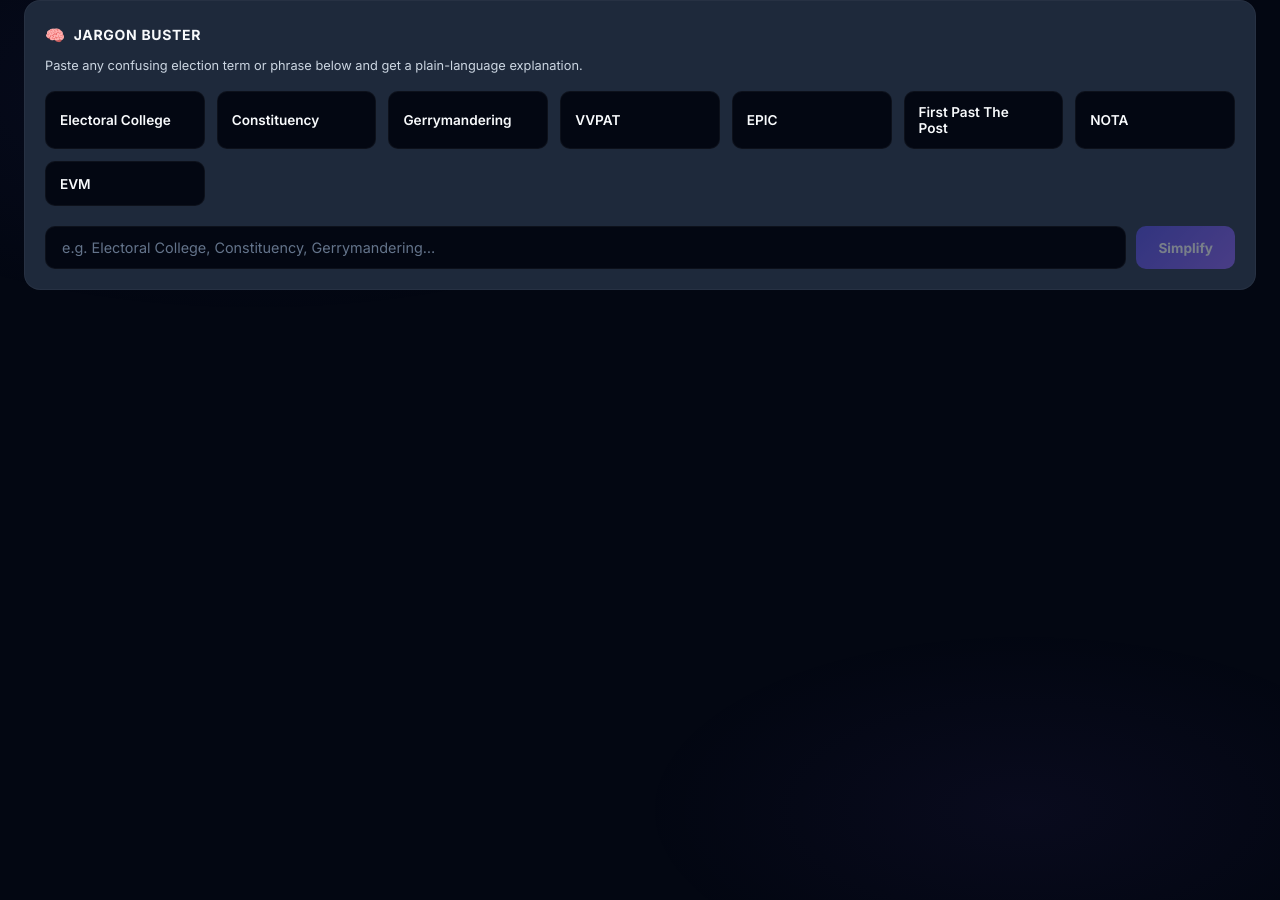
Test case: JargonBuster › enables the button when input has text
Type "Electoral College" into the field named "Enter election jargon to simplify" at point(586, 248), box [45,226,1126,269]
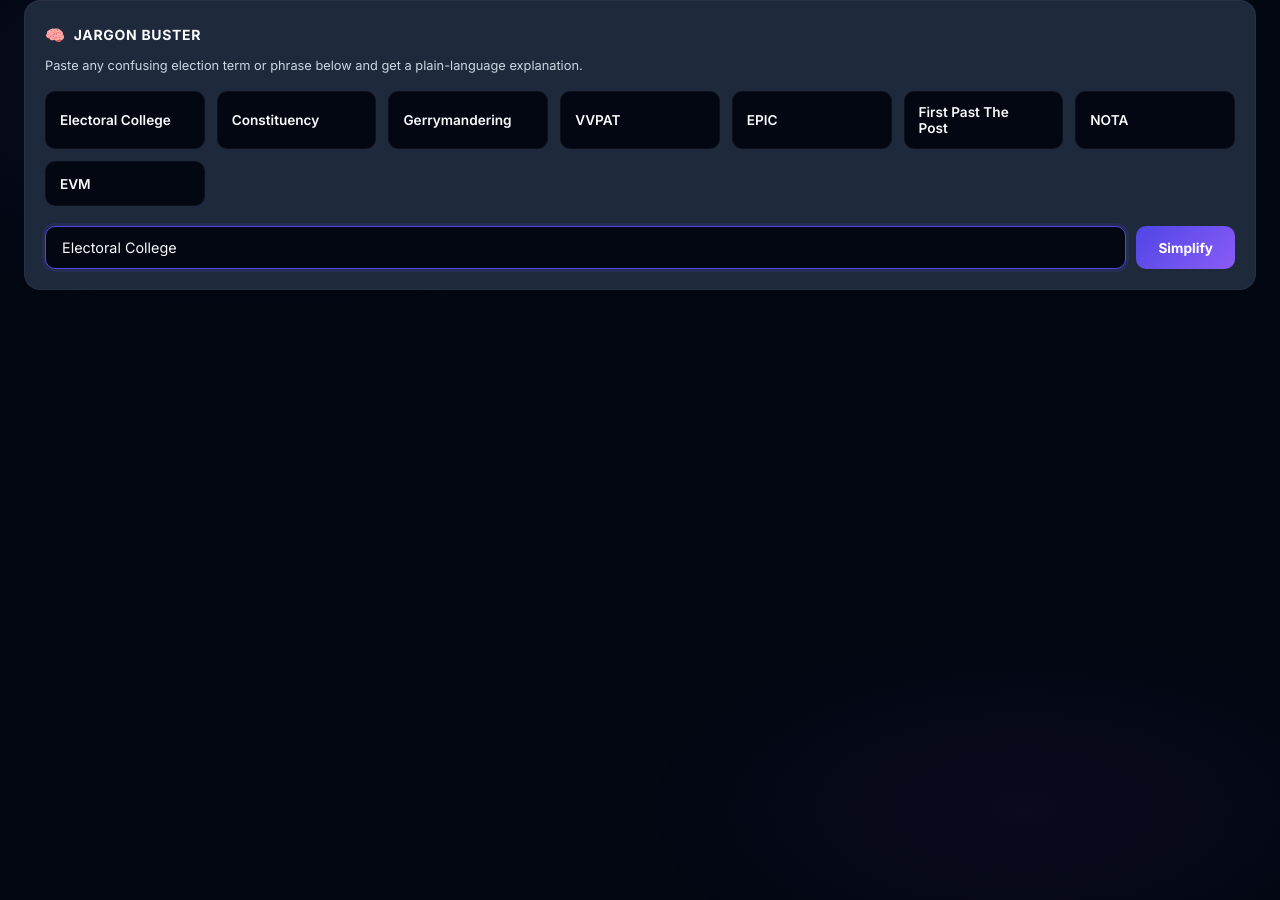
expect the button with aria-label "Simplify this term" is enabled: met, box [1136,226,1235,269]
